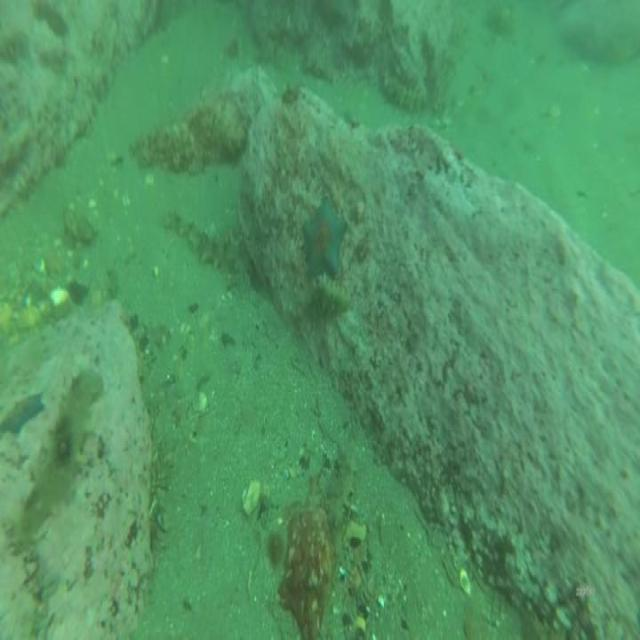holothurian: (13, 366, 103, 546), (170, 202, 224, 269), (330, 446, 357, 566)
starfish: (300, 194, 348, 286), (1, 392, 47, 439)
